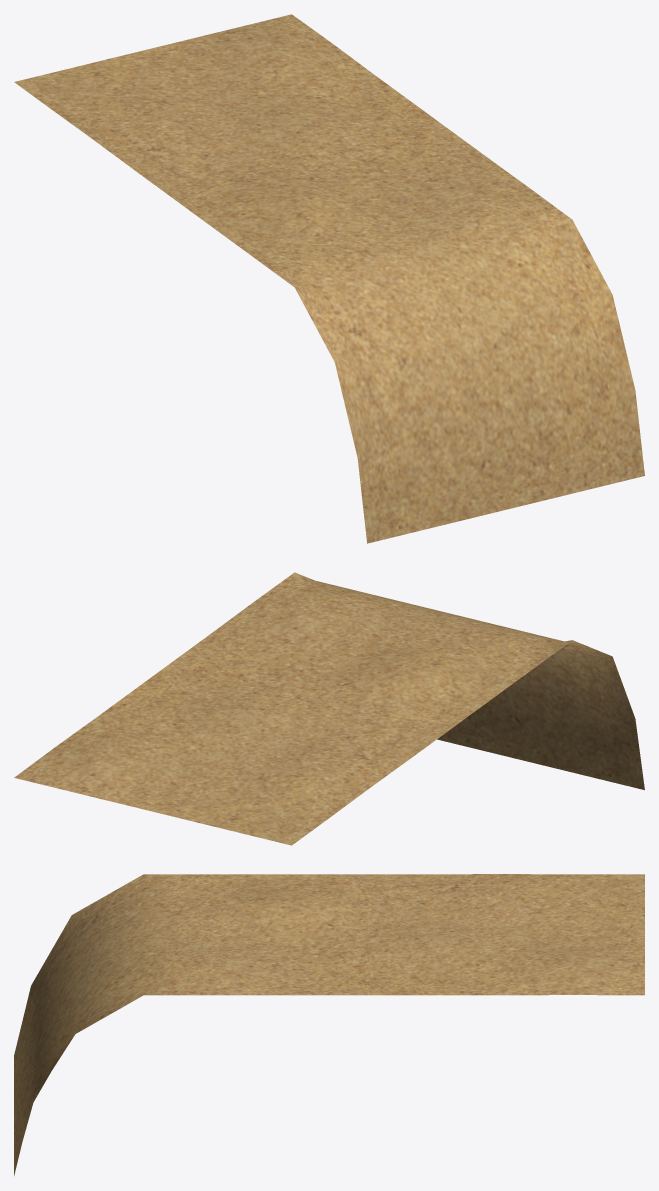
The model's file is frontPath1.obj.
The picture shows the model from 3 angles, top to bottom: view 1: azimuth 30°, elevation 25°; view 2: azimuth 150°, elevation 25°; view 3: azimuth 270°, elevation 25°; orthographic projection. The views are drawn at different scales.
Visible parts, largest first — view 1: pPlane4; view 2: pPlane4; view 3: pPlane4.
Part boxes in pixels (x1,y1,x2,y2): pPlane4: (14, 14, 644, 543); pPlane4: (14, 572, 644, 845); pPlane4: (14, 874, 644, 1175).
Bounding box in the file's own units: 6 × 4.4 × 13.21.
1 material, 1 textured.
